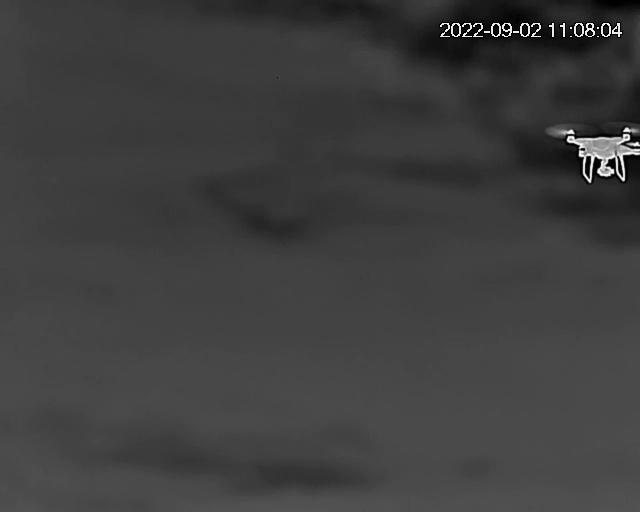DJI-Phantom: (554, 118, 640, 187)
